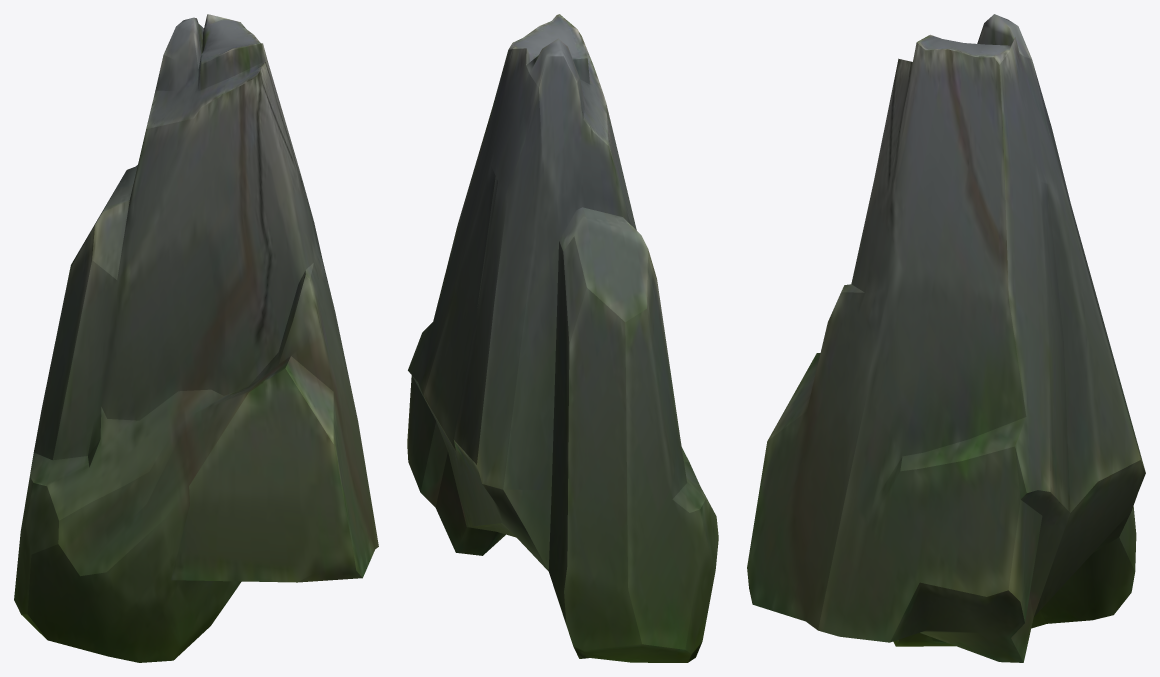
File: rocha-espigao.glb
The picture shows the model from 3 angles, left to right: view 1: azimuth 30°, elevation 25°; view 2: azimuth 150°, elevation 25°; view 3: azimuth 270°, elevation 25°; orthographic projection. The views are drawn at different scales.
Size of the model in its own units: 2.51 by 4.63 by 2.5.
1 material, 1 textured.
